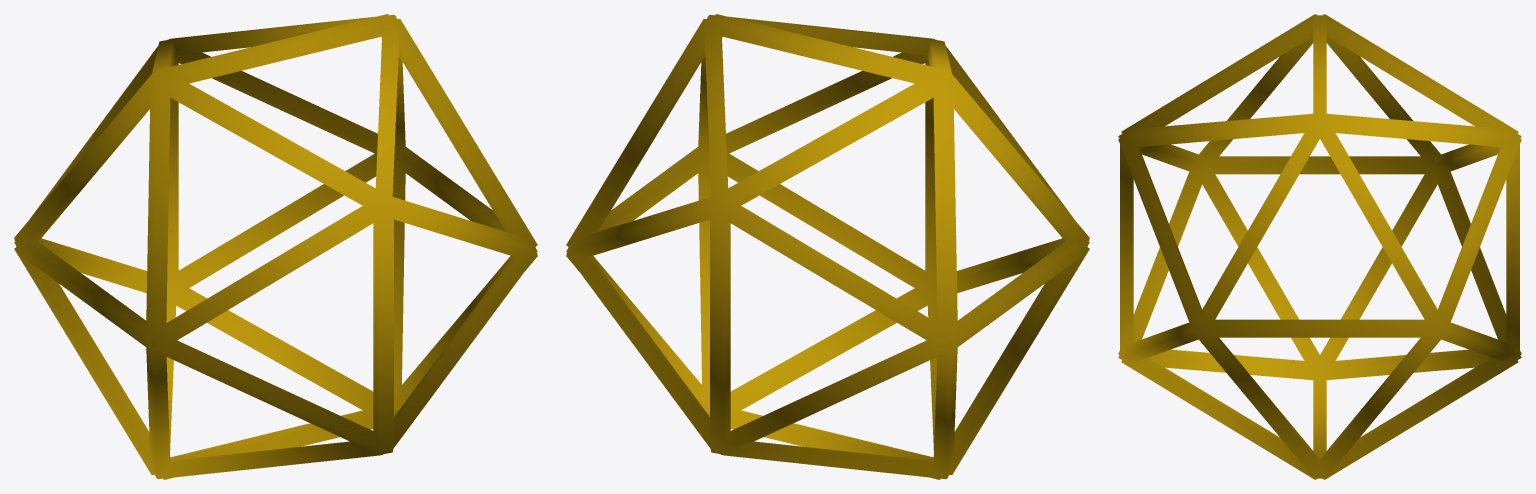
Rendered from d20-wire-gold-mobile.glb.
3 views of the same model, side by side, from view 1: azimuth 30°, elevation 25°; view 2: azimuth 150°, elevation 25°; view 3: azimuth 270°, elevation 25° (orthographic). The views are drawn at different scales.
Size of the model in its own units: 1.76 by 1.77 by 1.78.
